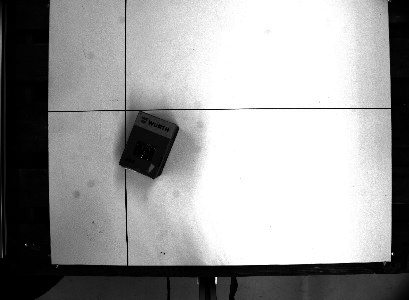b4: (115, 110, 182, 181)
